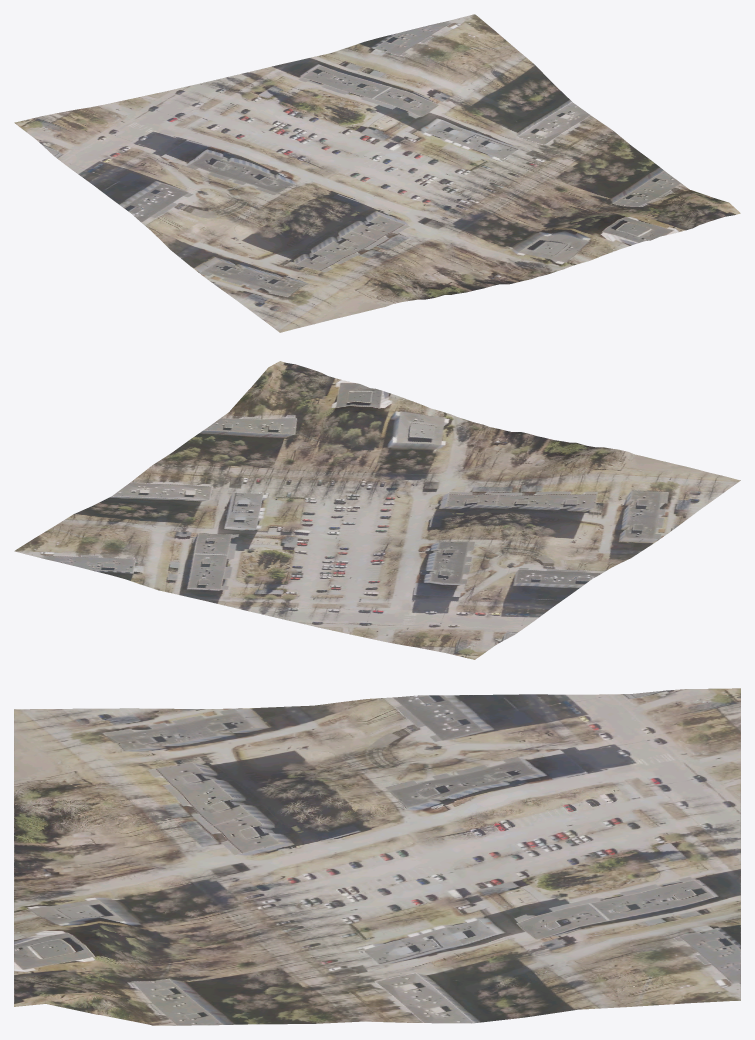
The model's file is CM_Terrain_24491482_6815698.fbx.
3 renders of one model, top to bottom at view 1: azimuth 30°, elevation 25°; view 2: azimuth 150°, elevation 25°; view 3: azimuth 270°, elevation 25°, orthographic. The views are drawn at different scales.
Visible parts, largest first — view 1: CM_Terrain_24491482_6815698_LOD0; view 2: CM_Terrain_24491482_6815698_LOD0; view 3: CM_Terrain_24491482_6815698_LOD0.
Boxes of the visible parts, x1,y1,x2,y2 form: CM_Terrain_24491482_6815698_LOD0: (14,14,740,332); CM_Terrain_24491482_6815698_LOD0: (14,361,740,659); CM_Terrain_24491482_6815698_LOD0: (14,688,740,1025).
Size of what is drawn, in the model's own units: 205 by 10.46 by 205.
